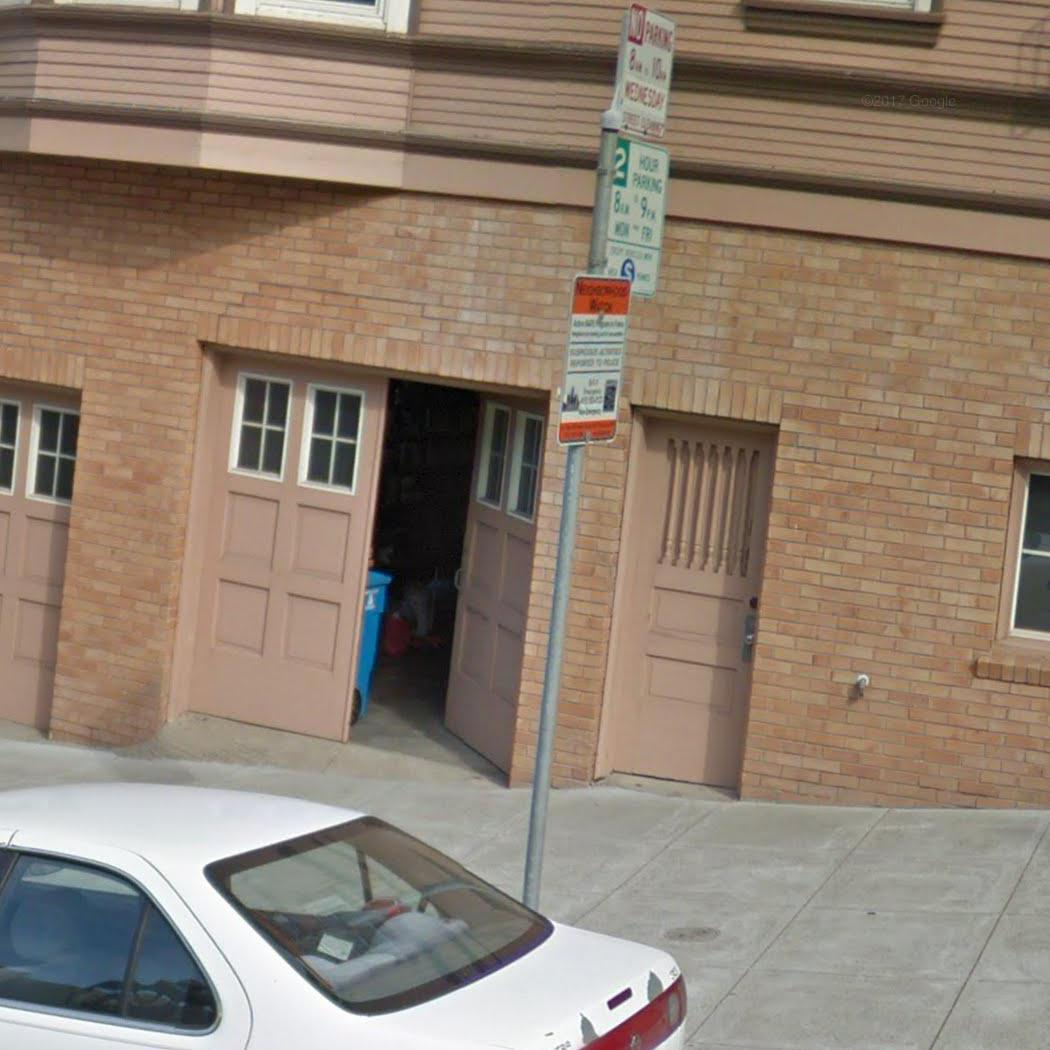2 Hour Parking: (605, 146, 673, 290)
No Parking: (619, 11, 677, 134)
